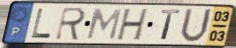H: (115, 7, 151, 42)
L: (29, 7, 52, 40)
M: (84, 8, 123, 41)
R: (53, 6, 88, 42)
T: (160, 8, 182, 42)
U: (178, 6, 214, 44)
